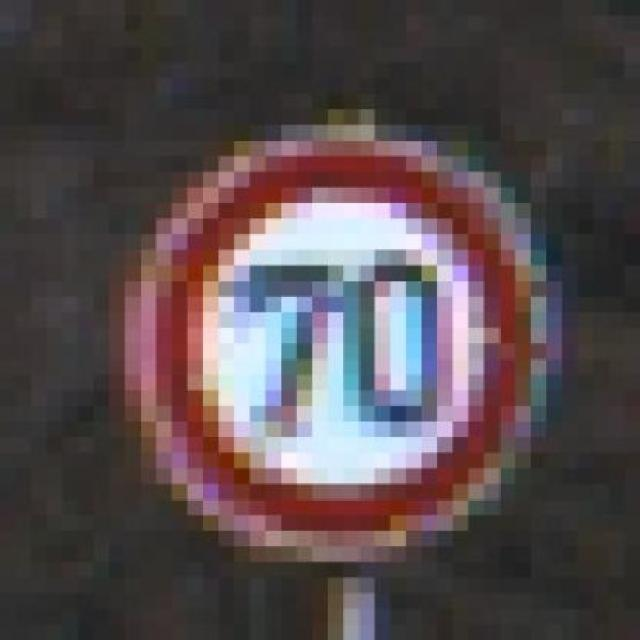forb_speed_over_70: (147, 144, 536, 539)
